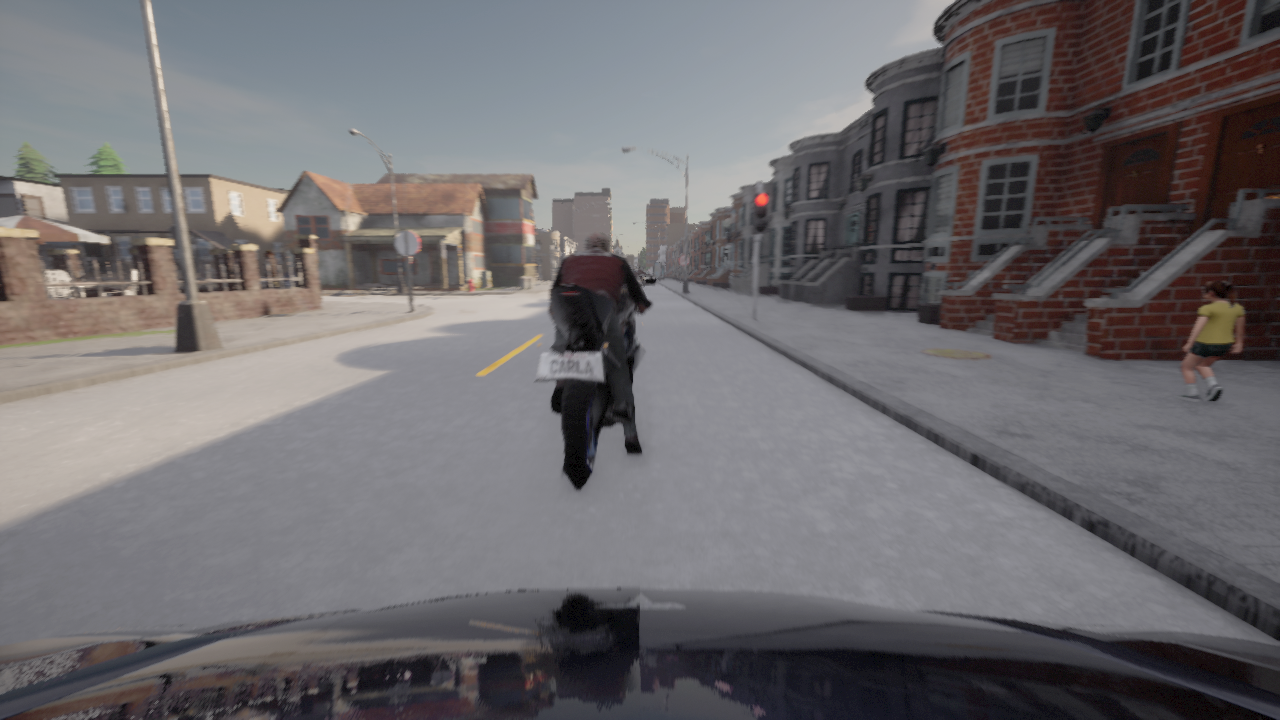cyclist: (0, 588, 1279, 719), (534, 274, 657, 489), (638, 279, 643, 287)
pedestrian: (1176, 281, 1244, 401), (265, 249, 279, 286)
